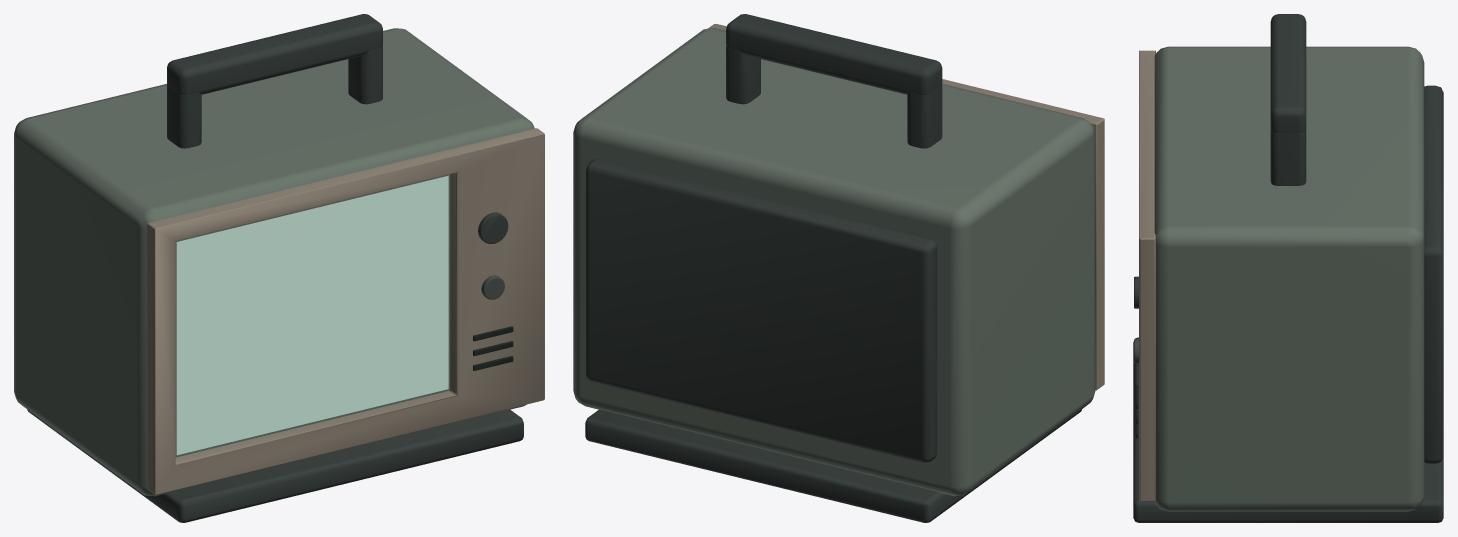
Rendered from SM_TV_PortableCRT.fbx.
3 renders of one model, left to right at view 1: azimuth 30°, elevation 25°; view 2: azimuth 150°, elevation 25°; view 3: azimuth 270°, elevation 25°, orthographic.
Visible parts, largest first — view 1: SM_TV_PortableCRT__Body, SM_TV_PortableCRT__Screen; view 2: SM_TV_PortableCRT__Body; view 3: SM_TV_PortableCRT__Body.
Part boxes in pixels (x1,y1,x2,y2): SM_TV_PortableCRT__Body: [14, 14, 544, 522]; SM_TV_PortableCRT__Screen: [176, 175, 448, 455]; SM_TV_PortableCRT__Body: [573, 14, 1104, 522]; SM_TV_PortableCRT__Body: [1133, 14, 1443, 522].
Size of the model in its own units: 0.7 by 0.65 by 0.48.
